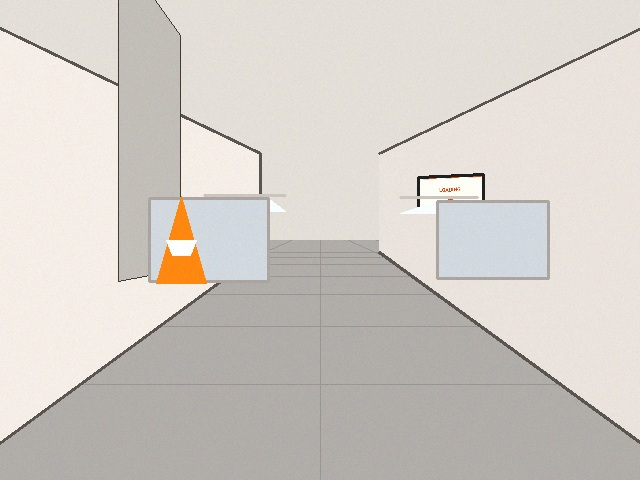directional_sign: (418, 174, 483, 208)
hospital_bed: (400, 201, 548, 278), (149, 198, 285, 281)
obstacle: (156, 196, 206, 283)
